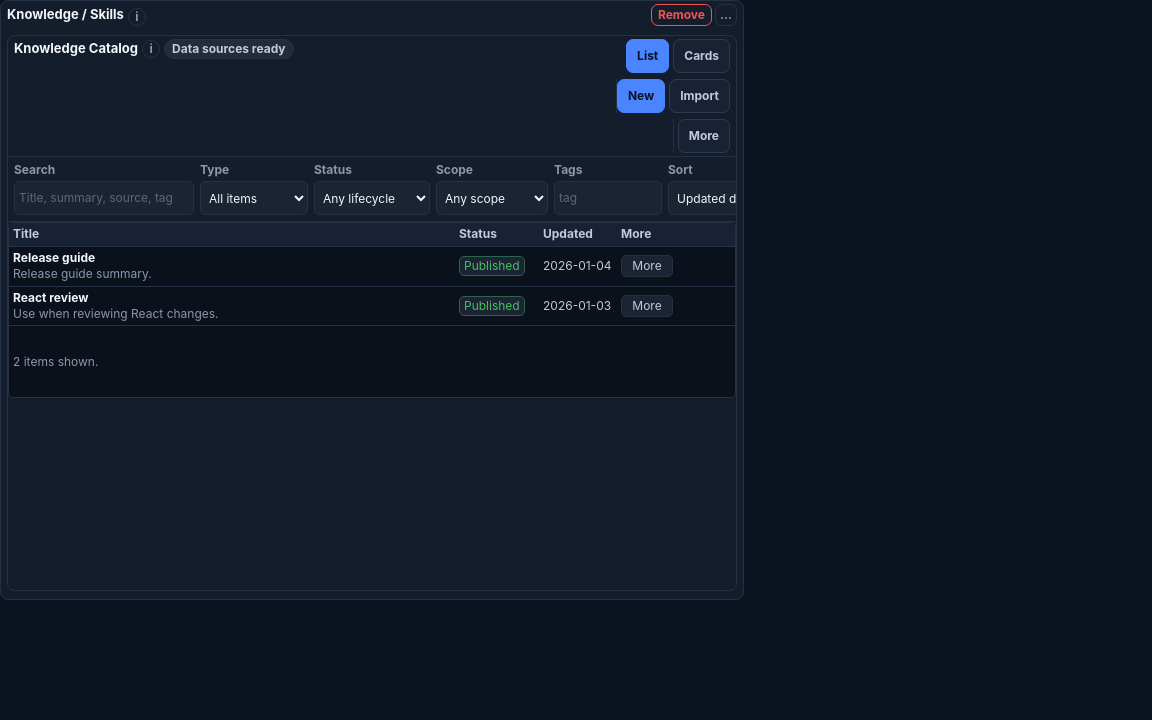
Test: Knowledge / Skills compatibility routing › keeps the existing import flow reachable from the active Knowledge route
Click the button "Import". click: [700, 96]
box: [669, 79, 730, 113]
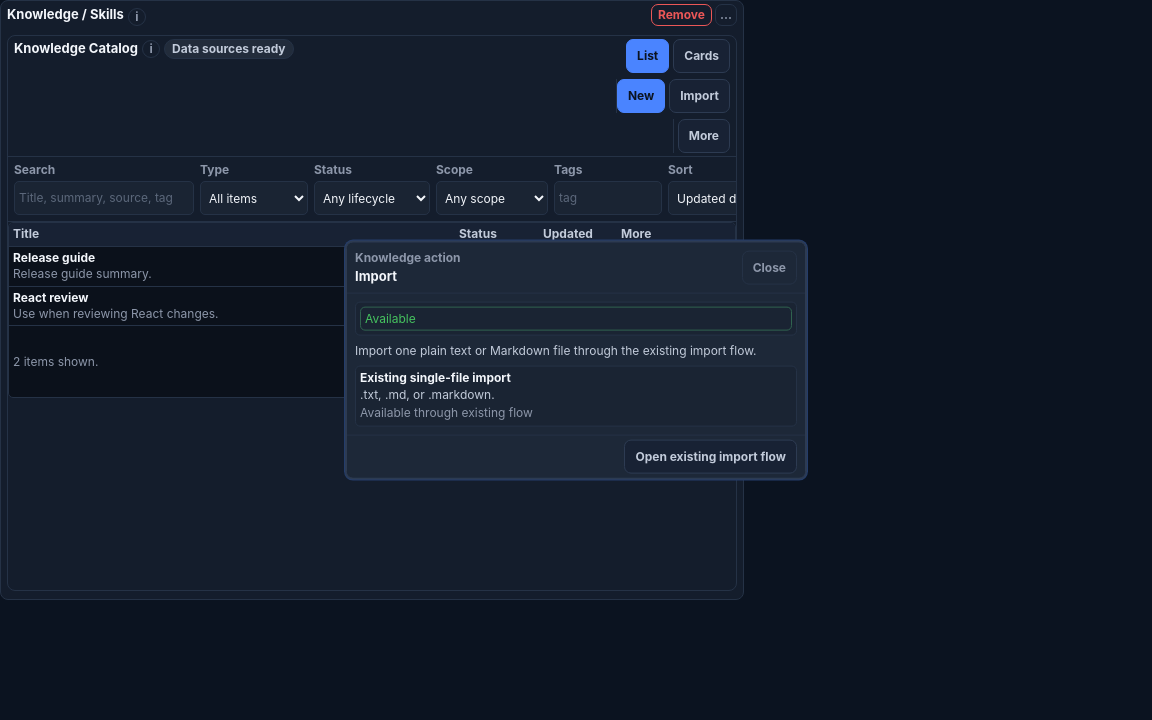
Result: the button "Open existing import flow" is shown
Click the button "Open existing import flow". click: [711, 456]
box: [624, 439, 797, 473]
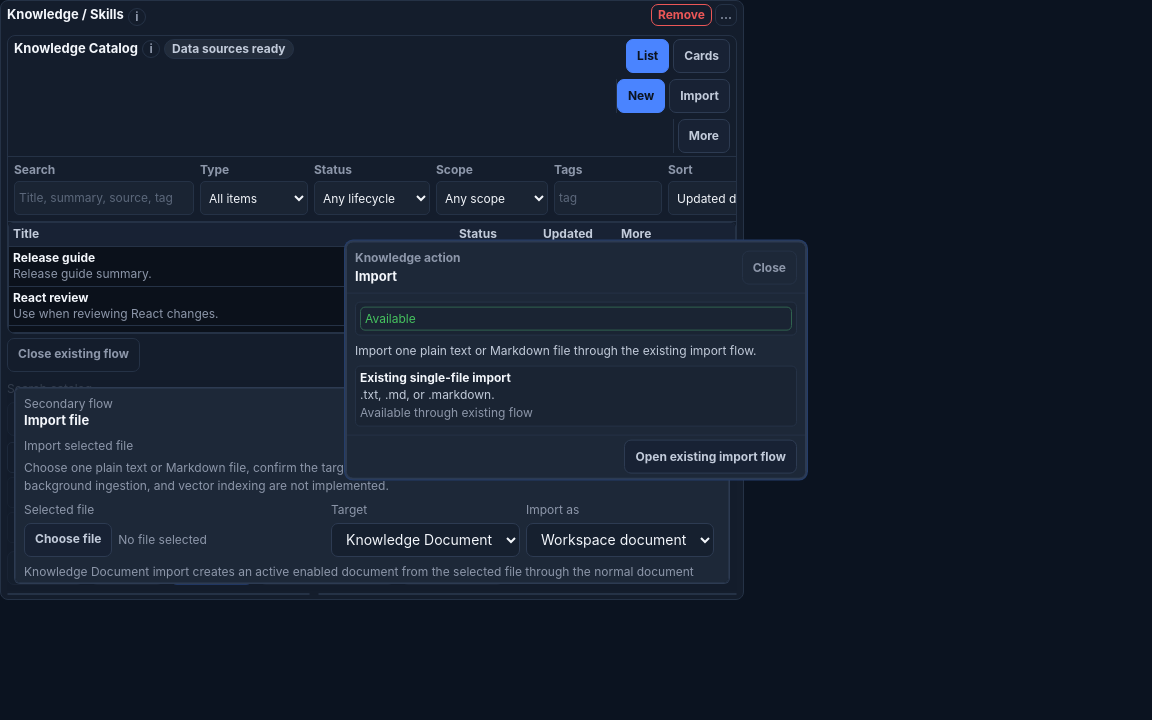
Result: the element named "Legacy Knowledge / Skills existing flow" is shown at [7, 338, 737, 591]
Result: the element named "Knowledge import" is shown at [15, 388, 729, 583]
Result: the file field labelled "Choose file" is shown at [24, 523, 112, 557]
